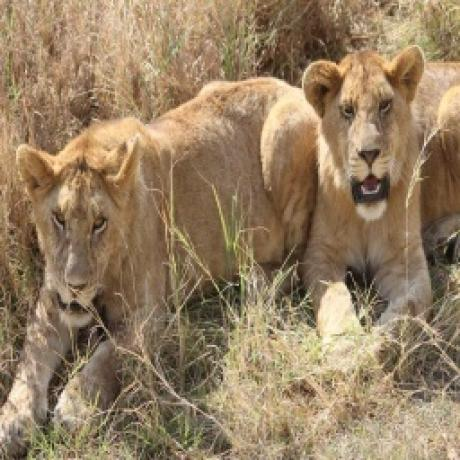Lion: (1, 74, 319, 451), (299, 42, 460, 328)
